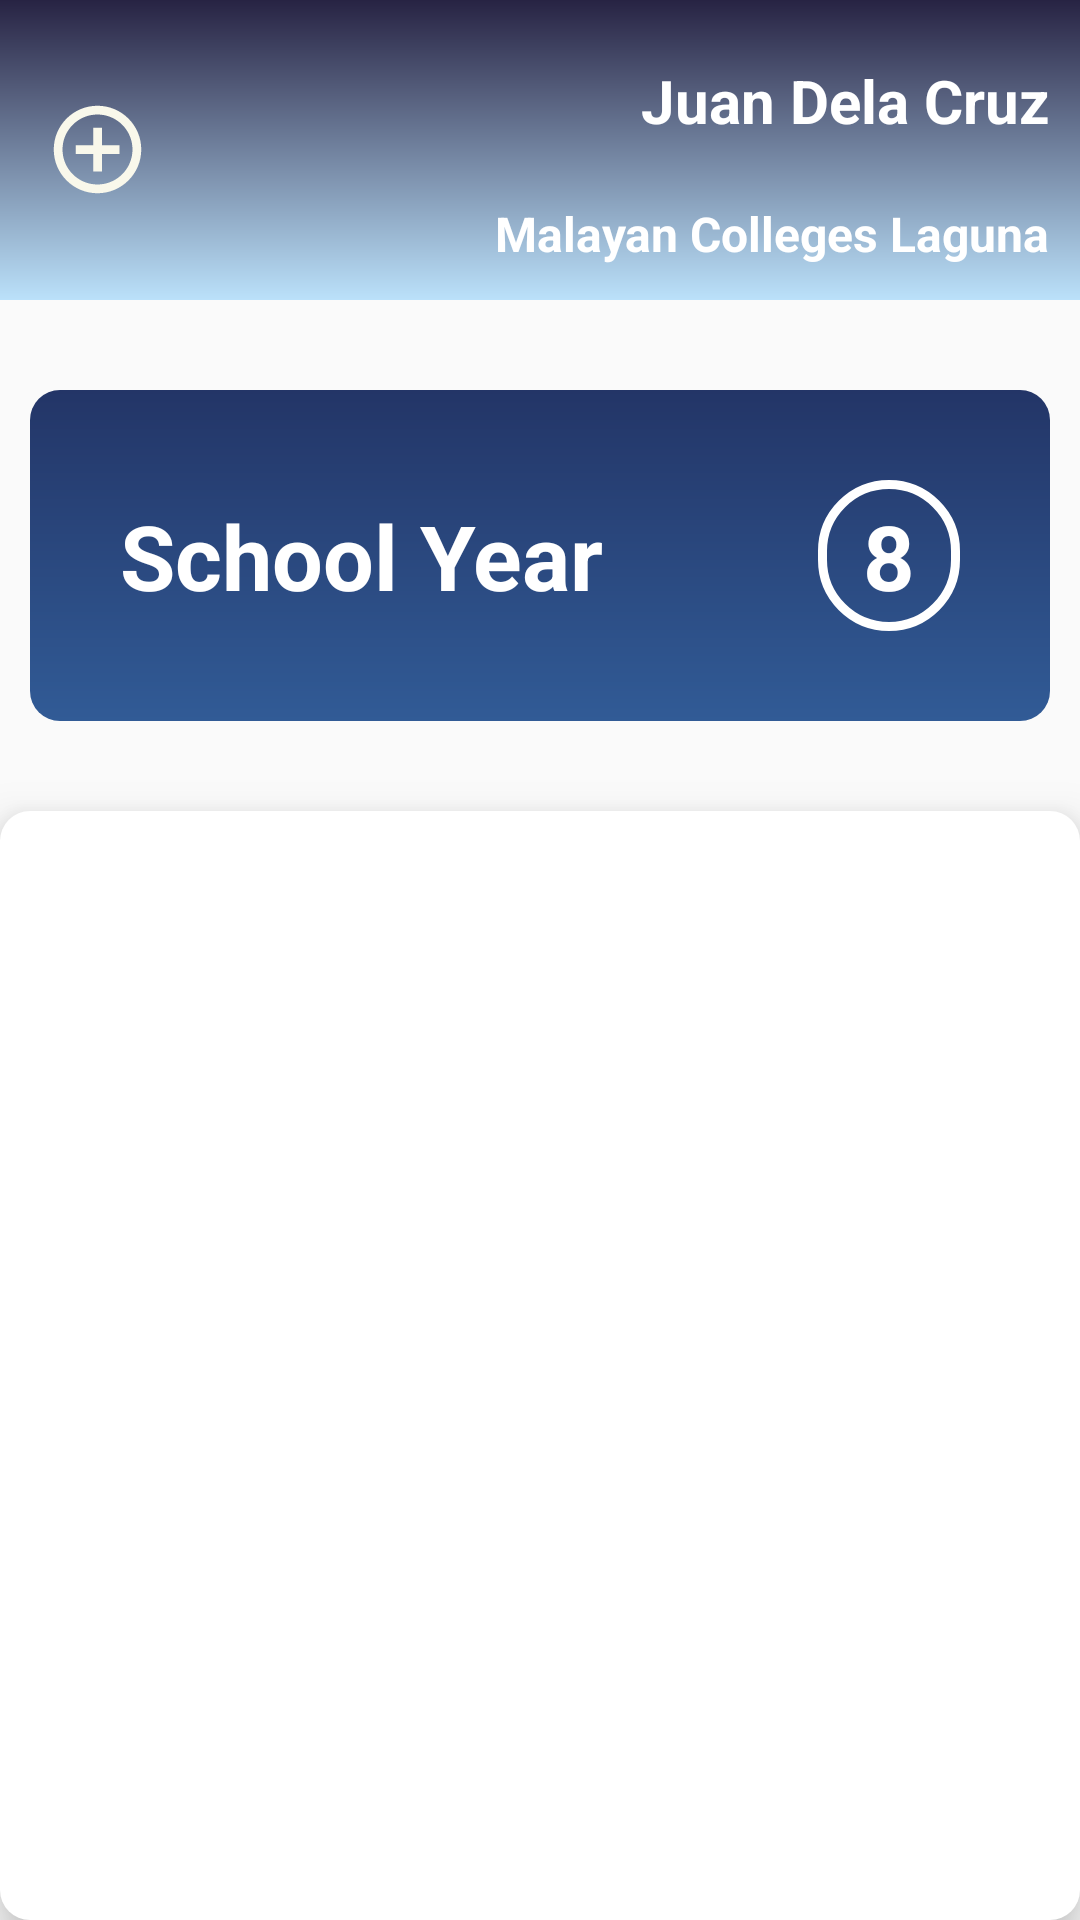

Screen size 1080 x 1920. Icon name, then its center in pixels as [x,y]:
add circle: [97,149]
